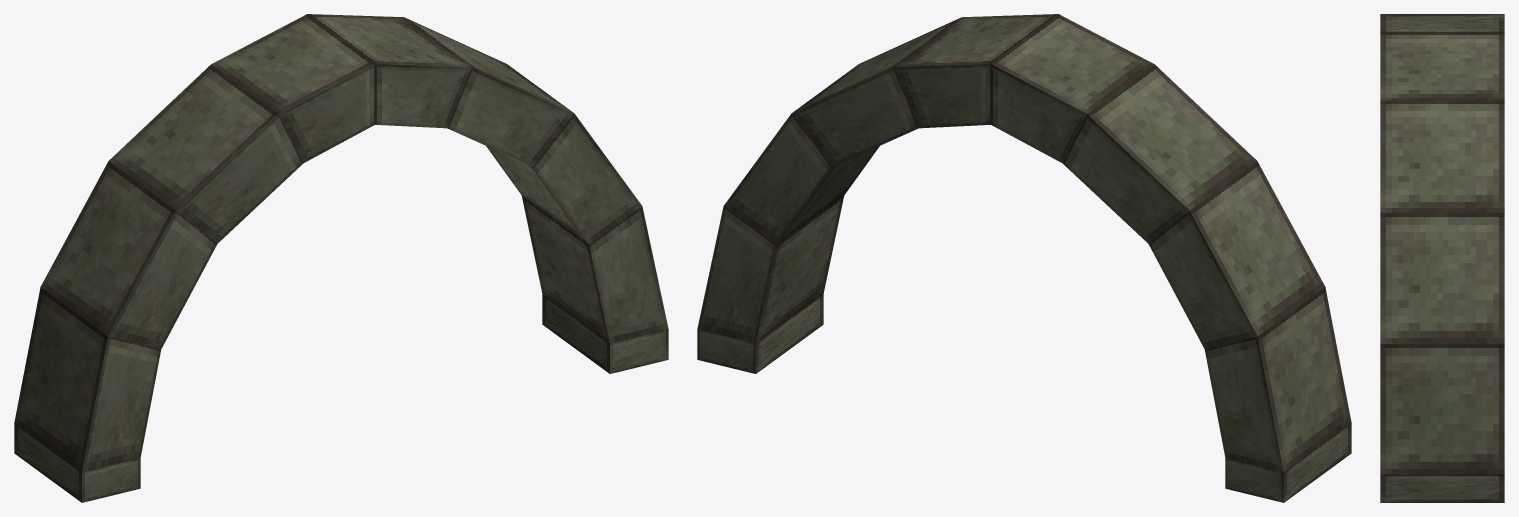
File: arch.glb
3 renders of one model, left to right at view 1: azimuth 30°, elevation 25°; view 2: azimuth 150°, elevation 25°; view 3: azimuth 270°, elevation 25°, orthographic. The views are drawn at different scales.
Parts seen in each view (by area): view 1: arch; view 2: arch; view 3: arch.
Part boxes in pixels (x1,y1,x2,y2): arch: [14, 14, 668, 502]; arch: [697, 14, 1351, 502]; arch: [1380, 14, 1504, 502].
Bounding box in the file's own units: 4 × 2.4 × 0.8.
Materials: 1 (1 with a texture image).
